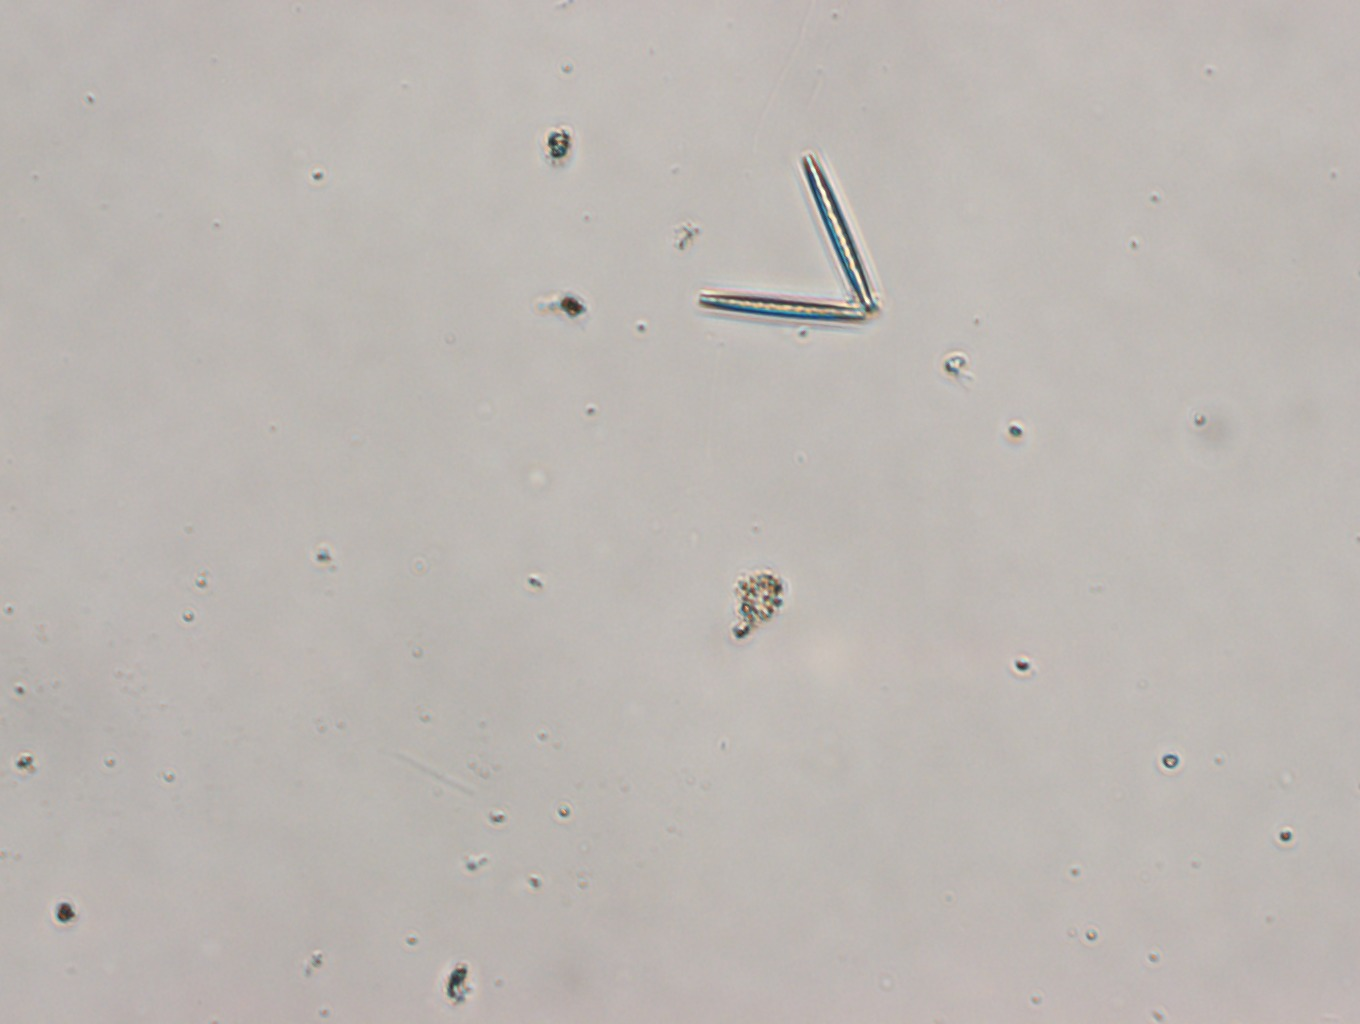thalassionema nitzschioides: (692, 152, 881, 327)
